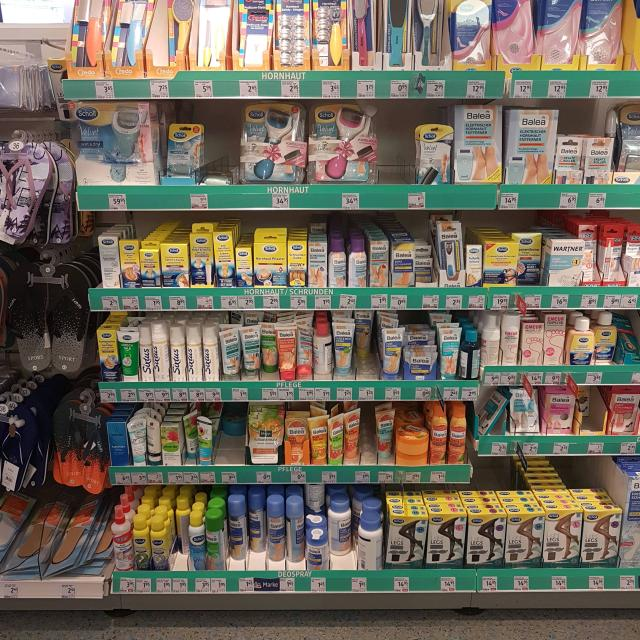empty: (377, 108, 416, 193)
